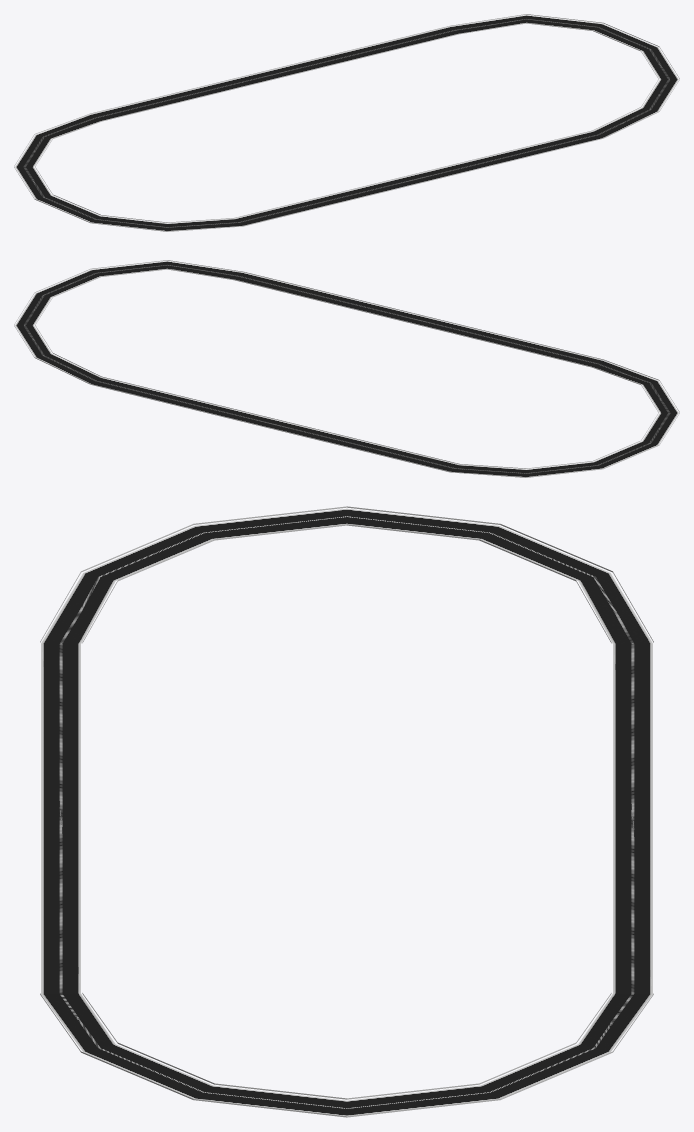
The model's file is cutback-tri-oval.fbx.
The picture shows the model from 3 angles, top to bottom: view 1: azimuth 30°, elevation 25°; view 2: azimuth 150°, elevation 25°; view 3: azimuth 270°, elevation 25°; orthographic projection. The views are drawn at different scales.
Visible parts, largest first — view 1: cutback-tri-oval_road, cutback-tri-oval_barrier_left, cutback-tri-oval_barrier_right; view 2: cutback-tri-oval_road, cutback-tri-oval_barrier_left, cutback-tri-oval_barrier_right; view 3: cutback-tri-oval_road, cutback-tri-oval_barrier_left, cutback-tri-oval_barrier_right.
Boxes of the visible parts, x1,y1,x2,y2 form: cutback-tri-oval_road: (15,15,678,231); cutback-tri-oval_barrier_left: (14,14,679,231); cutback-tri-oval_barrier_right: (35,23,658,222); cutback-tri-oval_road: (15,261,678,477); cutback-tri-oval_barrier_left: (14,260,679,477); cutback-tri-oval_barrier_right: (35,269,658,468); cutback-tri-oval_road: (41,508,652,1116); cutback-tri-oval_barrier_left: (40,506,653,1117); cutback-tri-oval_barrier_right: (82,524,611,1099).
Bounding box in the file's own units: 50480 × 289 × 21479.
